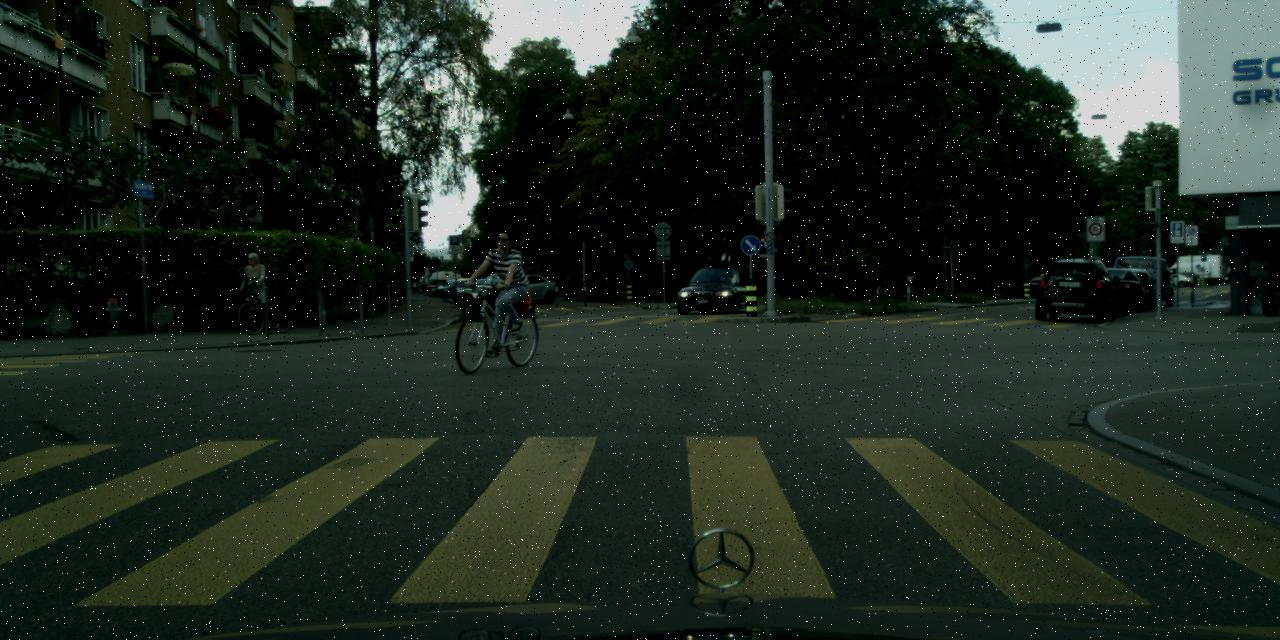ped: (483, 230, 528, 342), (243, 252, 274, 328), (420, 277, 428, 295), (412, 280, 417, 294)
